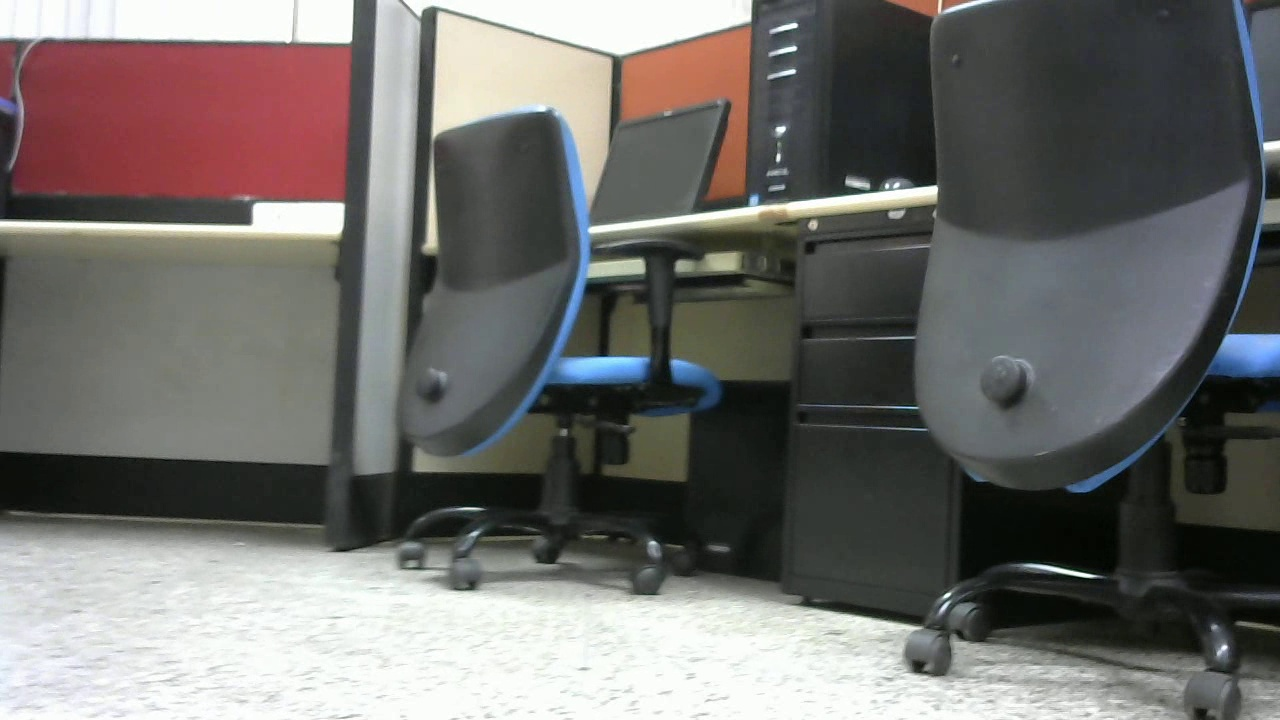chair: (373, 105, 721, 600)
